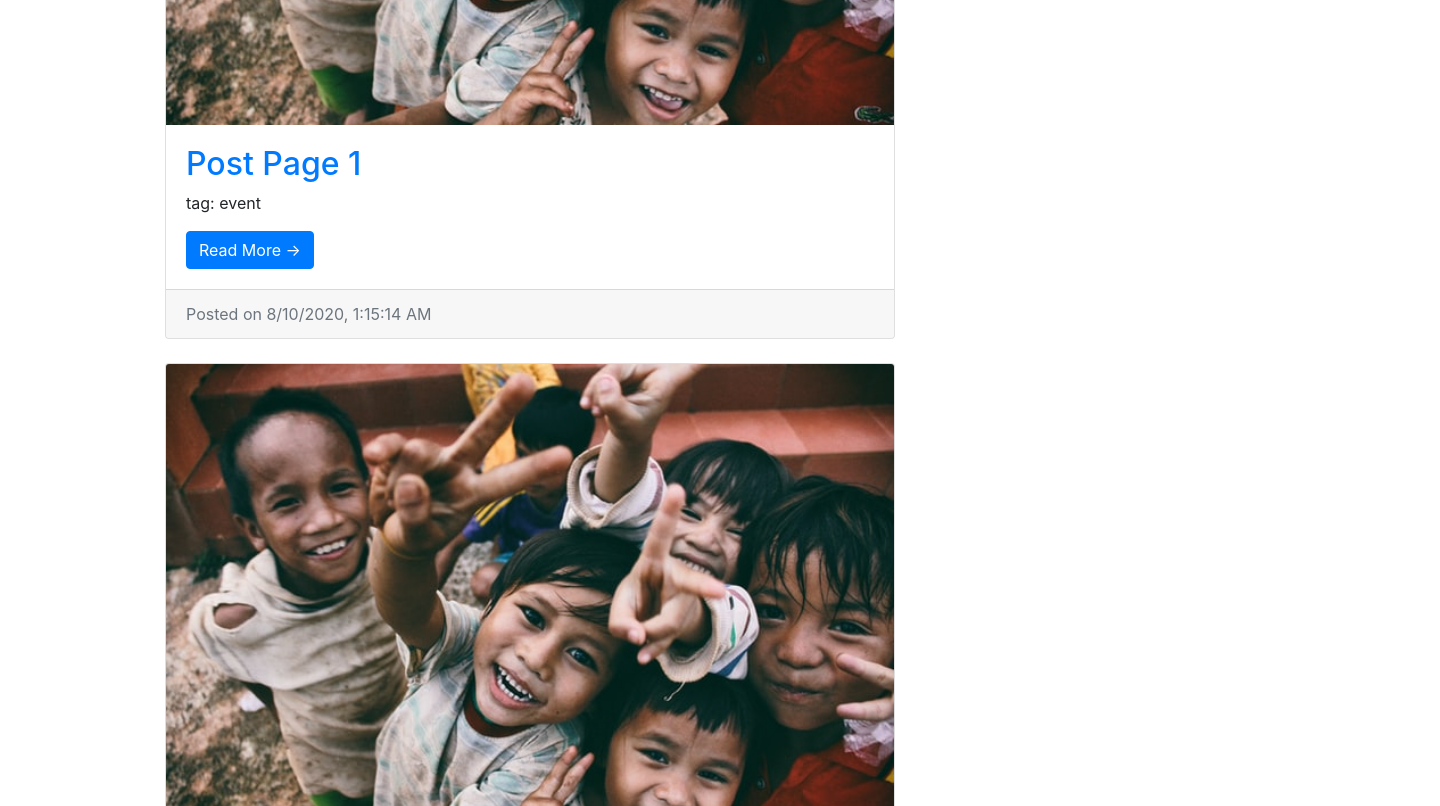
Scenario: Check Post Link
The image size is (1440, 806).
(page scrolled)
Click the link "Post Page 1": click(274, 163) [186,144,361,183]
(page scrolled)
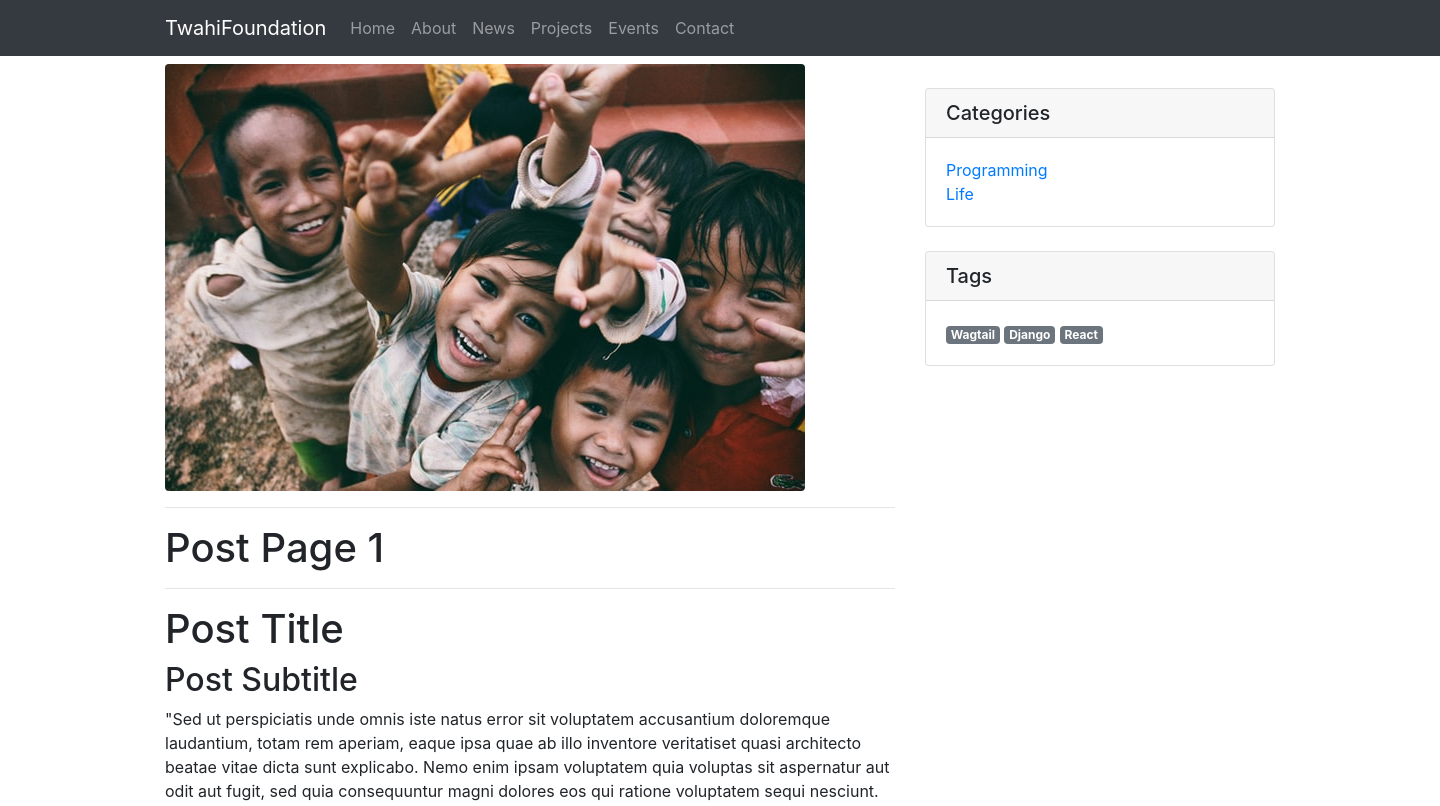
Expected: the heading "Post Title" is shown, [165,604,344,653]
